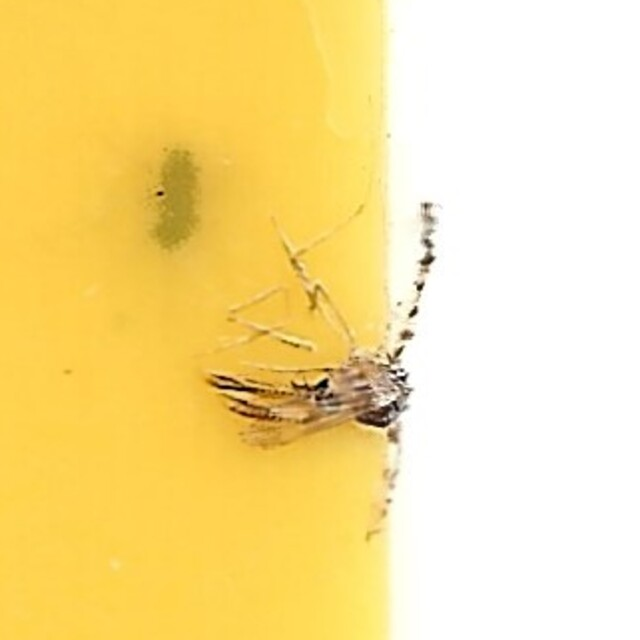Nematocera: (199, 190, 441, 450)
